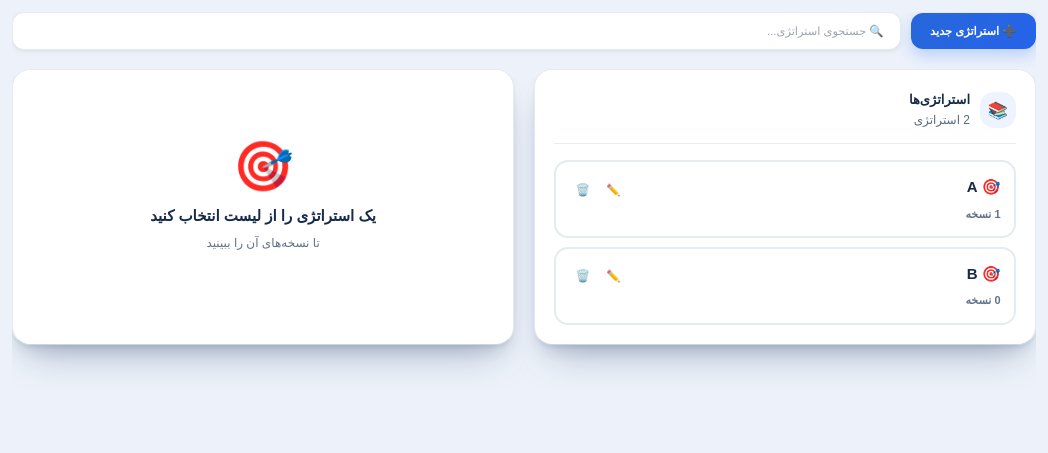
Test: StrategyPage Stage 5 request ownership and version CRUD › reversed strategy-list refresh responses cannot restore stale list state
This screenshot has width=1048, height=453.
Step 1. Click the 1st button titled "حذف" → point(583, 190), box 569,175 -> 596,205
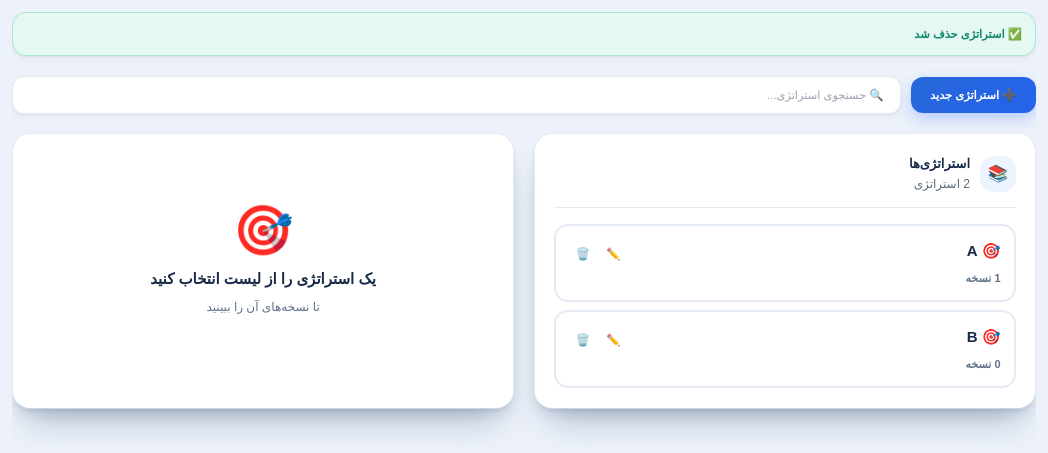
Step 2. Click the 1st button titled "حذف" → point(583, 254), box 569,239 -> 596,268
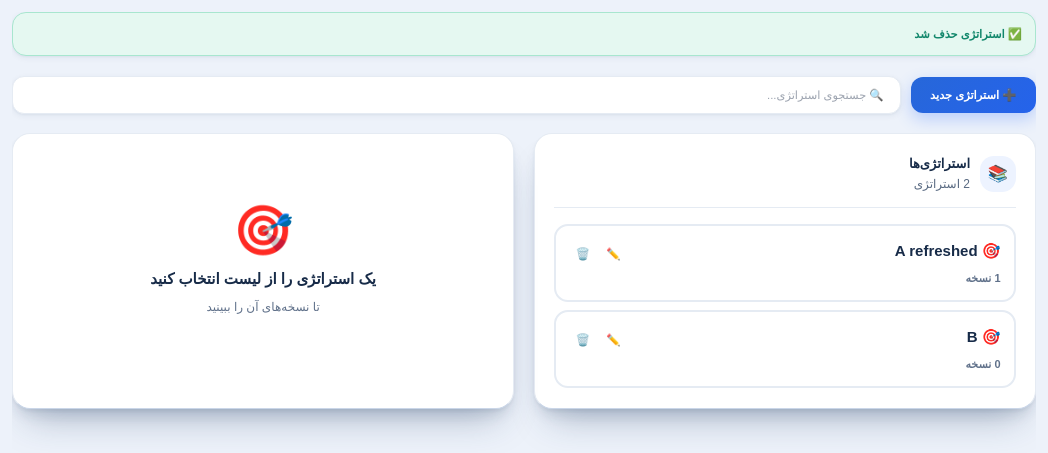
Now the text "A refreshed" is shown, box 895,242 -> 978,259
